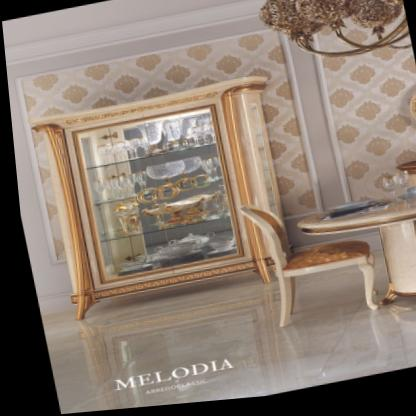Cupboard: (24, 72, 304, 325)
